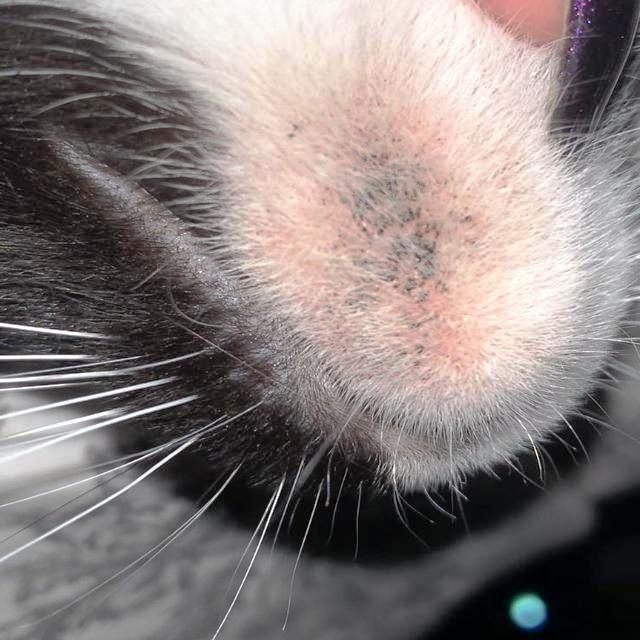acne: (263, 100, 482, 390)
